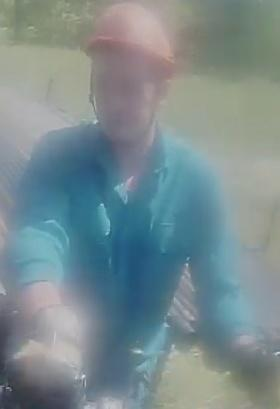gloves: (10, 296, 84, 403), (226, 329, 280, 409)
helmet: (82, 3, 176, 71)
vest: (0, 124, 235, 374)
